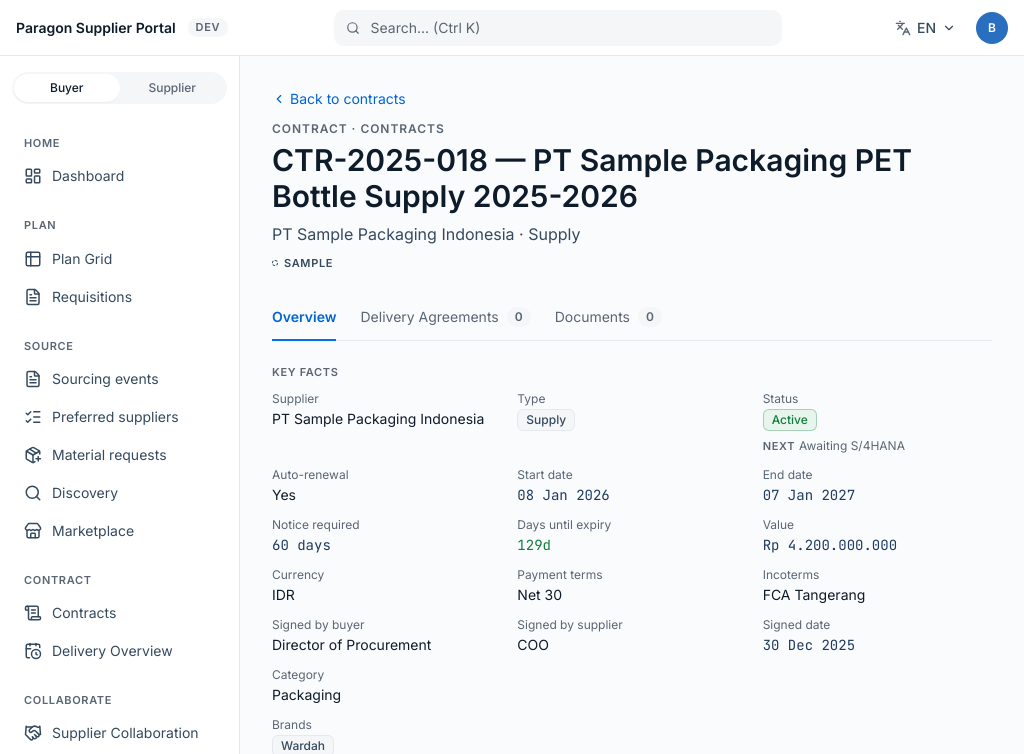
Test case: BuyerContractDetail — nested contract detail route › ctr-003 stays the pristine all-draft zero-state
Expected: the heading "CTR-2025-018" is shown, [272,142,912,214]
Click the tab "Delivery Agreements 0" at (446, 318), box [360,295,531,341]
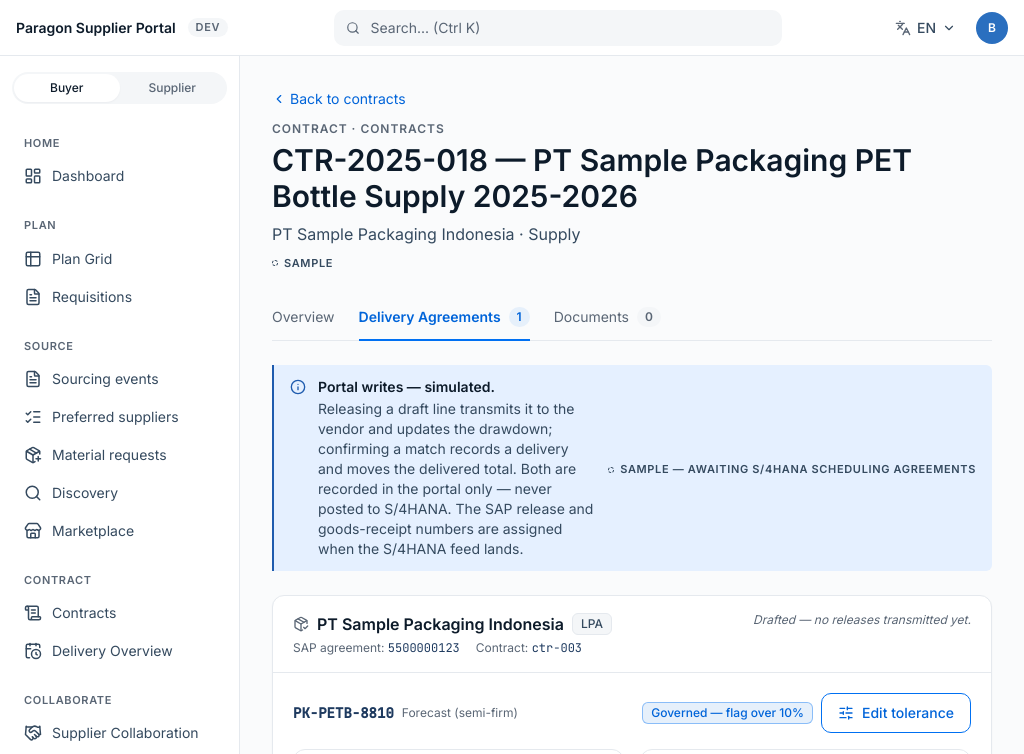
Expected: the text "Drafted — no releases transmitted yet." is shown, [753,612,971,628]
